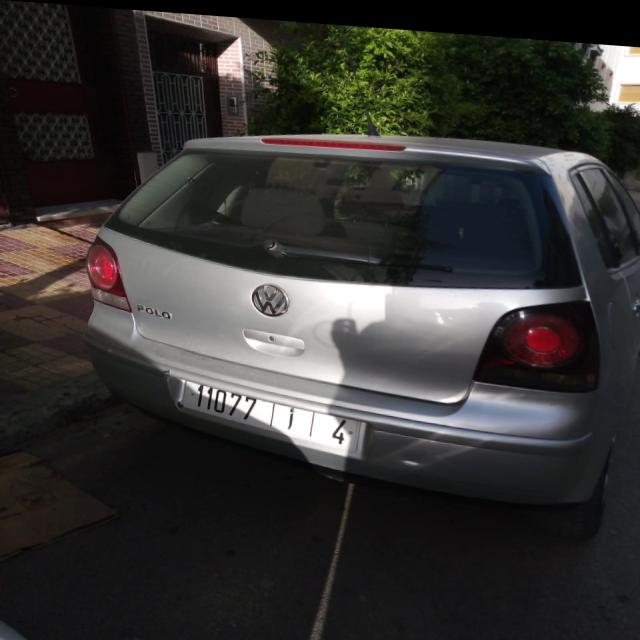License-Plate: (182, 378, 360, 447)
